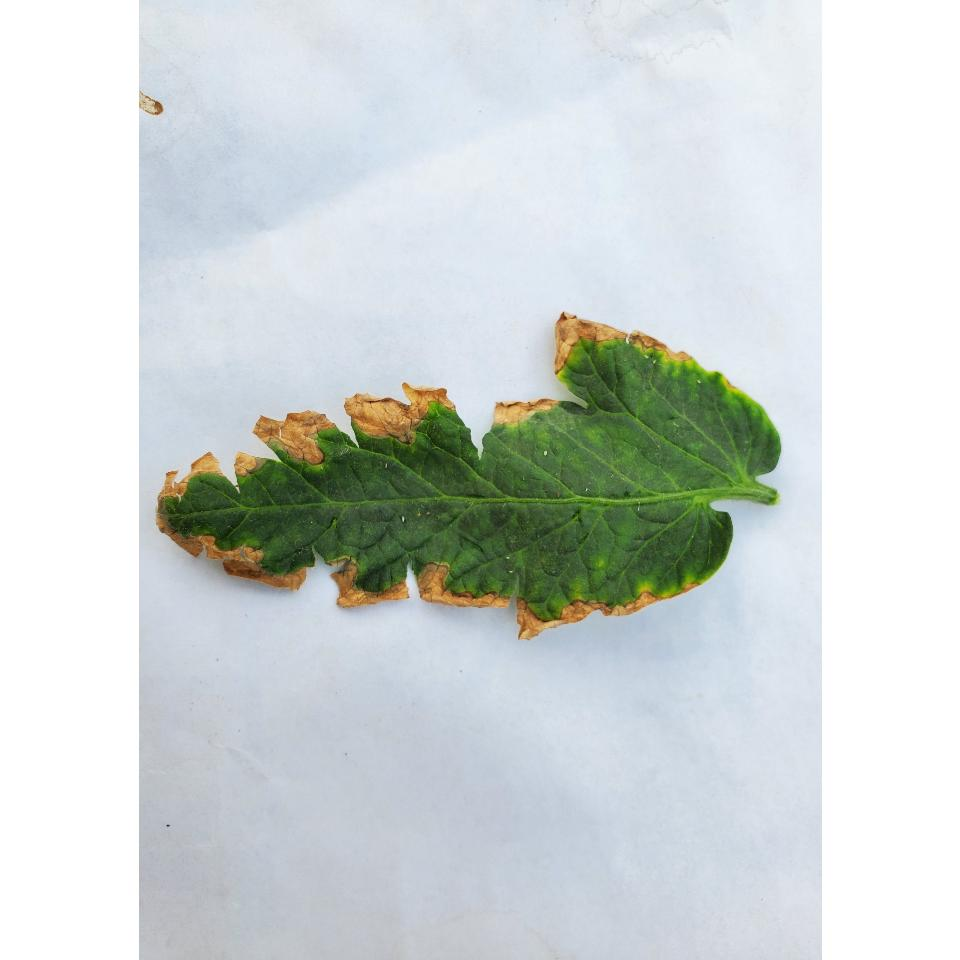tomato_bacterial_blight: (144, 302, 780, 644)
